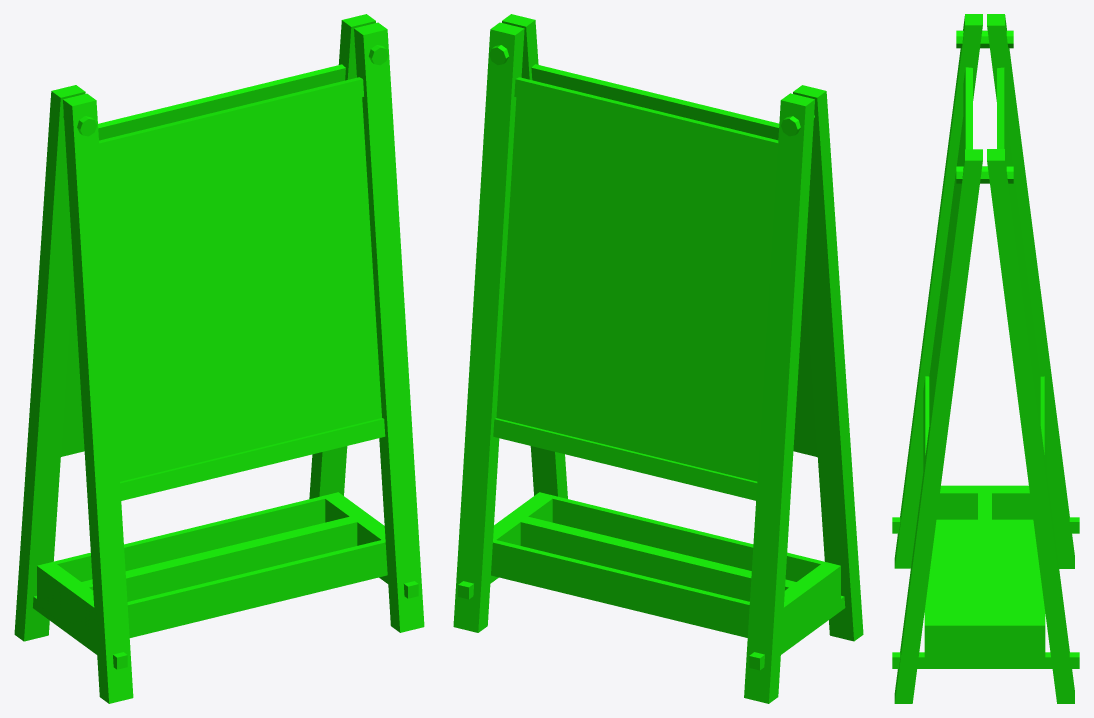
The model's file is White board.fbx.
The picture shows the model from 3 angles, left to right: view 1: azimuth 30°, elevation 25°; view 2: azimuth 150°, elevation 25°; view 3: azimuth 270°, elevation 25°; orthographic projection. The views are drawn at different scales.
Parts seen in each view (by area): view 1: White board; view 2: White board; view 3: White board.
Boxes of the visible parts, x1,y1,x2,y2 form: White board: (14, 14, 424, 703); White board: (453, 14, 863, 703); White board: (892, 14, 1079, 703).
Bounding box in the file's own units: 0.7421 × 1.28 × 0.4003.
